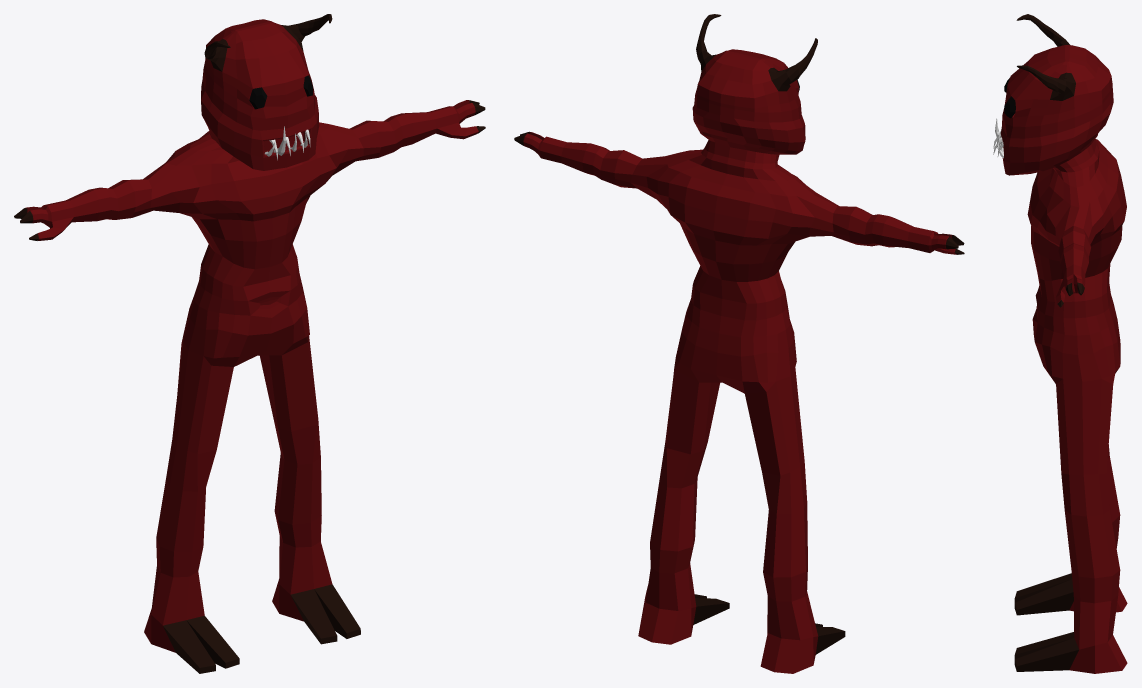
File: EM_Imp_Skinny.fbx
3 views of the same model, side by side, from view 1: azimuth 30°, elevation 25°; view 2: azimuth 150°, elevation 25°; view 3: azimuth 270°, elevation 25° (orthographic). The views are drawn at different scales.
Parts seen in each view (by area): view 1: Cube; view 2: Cube; view 3: Cube.
Part boxes in pixels (bbox=[...]): Cube: bbox=[14, 14, 485, 673]; Cube: bbox=[514, 14, 964, 673]; Cube: bbox=[993, 14, 1127, 673].
Size of the model in its own units: 388 by 497 by 101.
